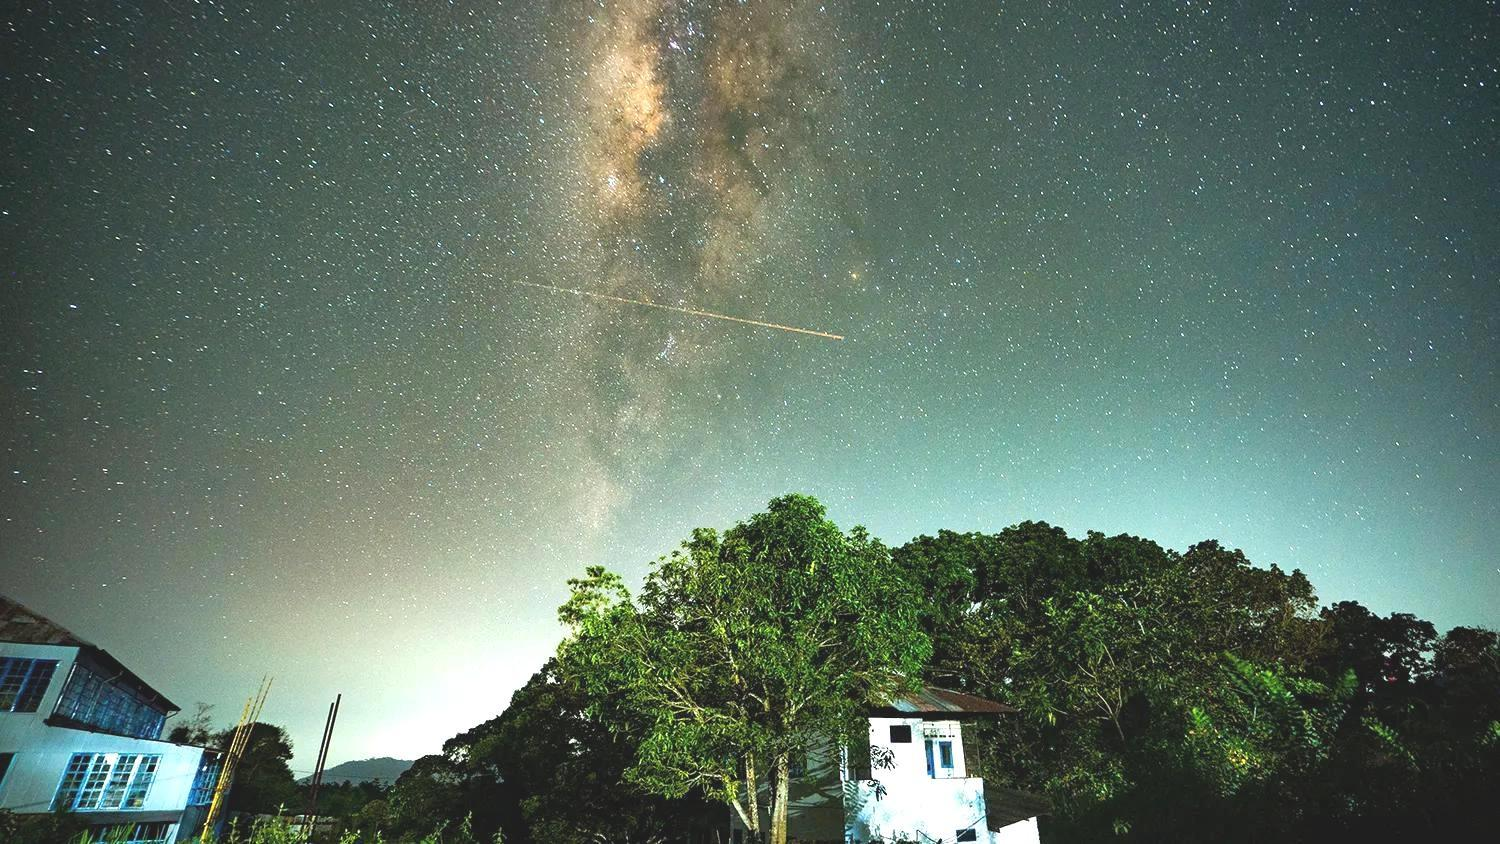meteorite: (567, 273, 858, 337)
